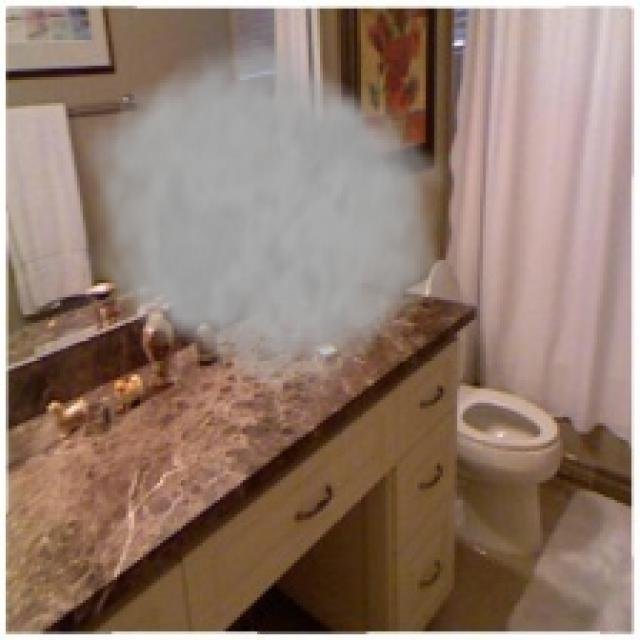smoke: (71, 28, 448, 406)
